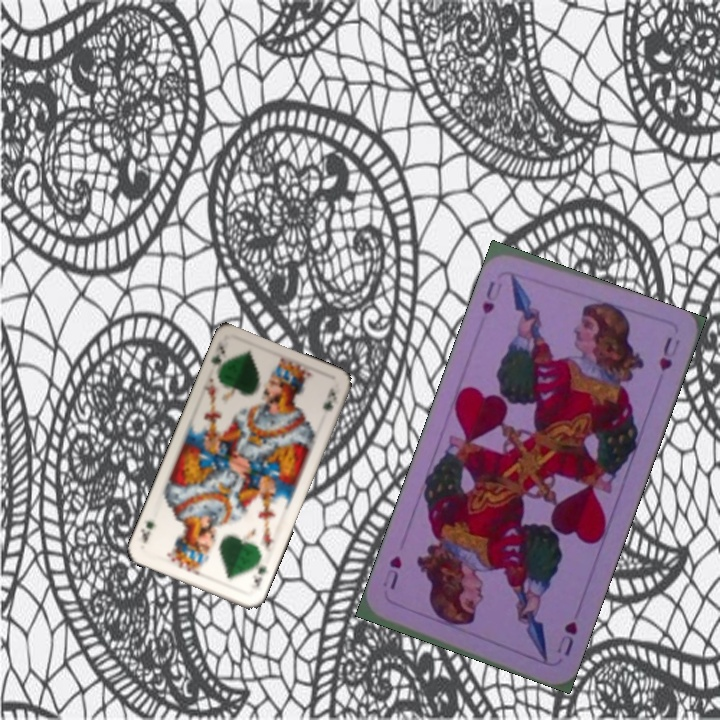GK: (247, 555, 270, 591), (207, 342, 228, 377)
HU: (553, 617, 580, 659), (478, 277, 506, 317)
